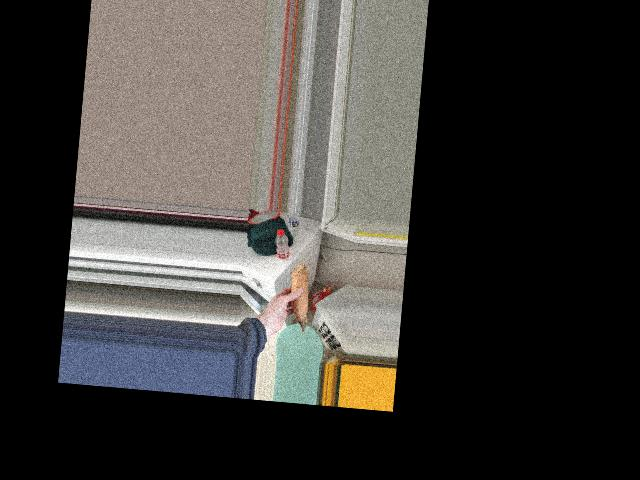sweet_potato: (289, 260, 310, 332)
